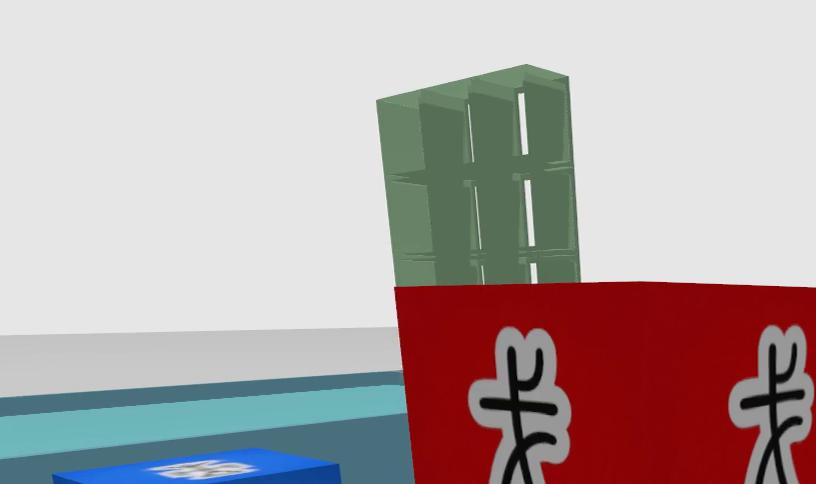KFS_FAKE: (396, 282, 816, 484), (468, 327, 570, 484), (729, 326, 814, 484)
KFS_REAL: (53, 448, 341, 484), (148, 458, 257, 479)
